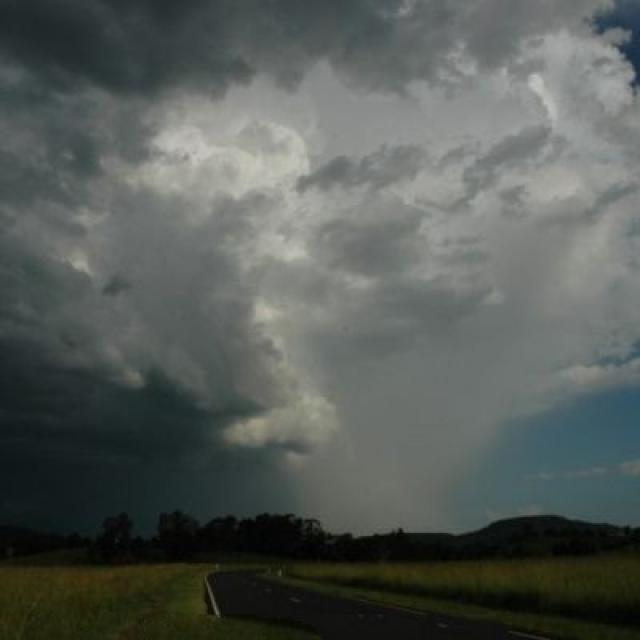Cb: (2, 1, 640, 453)
